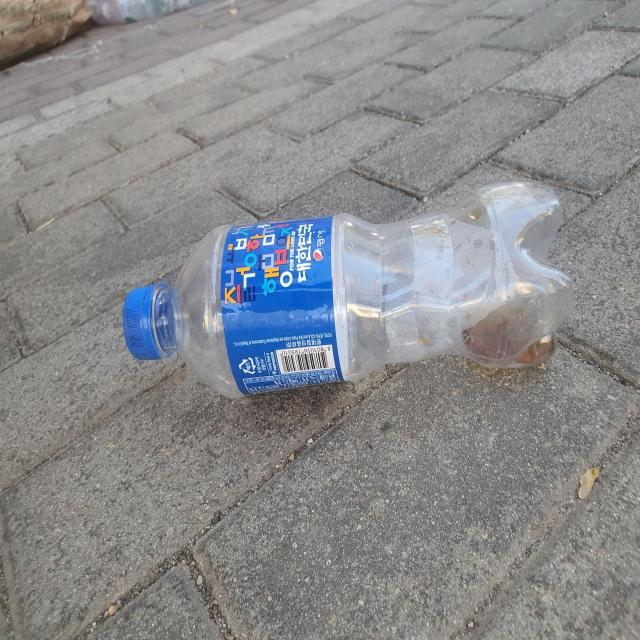plastic: (123, 182, 575, 398)
